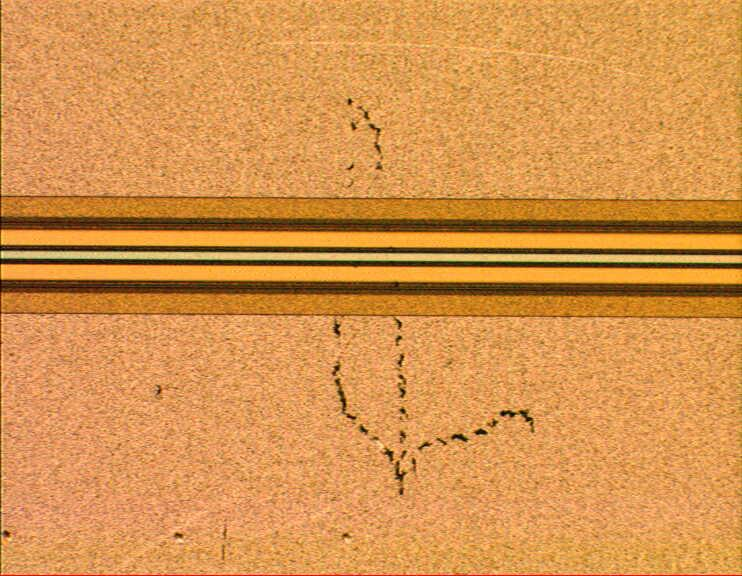SCRATCH: (106, 92, 546, 576)
